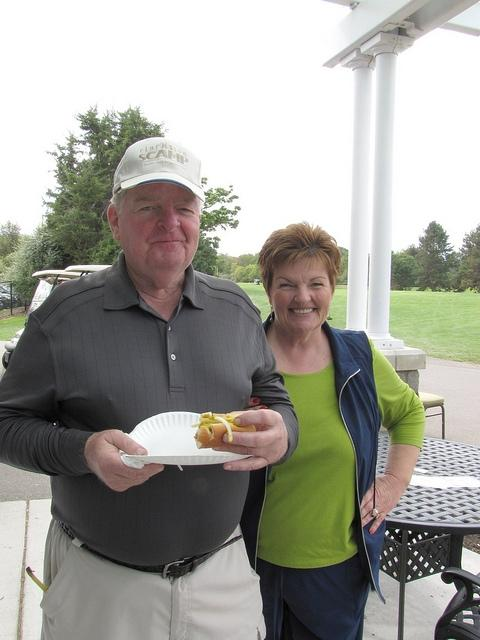onion: (214, 417, 233, 442), (200, 417, 234, 424), (191, 423, 201, 428)
